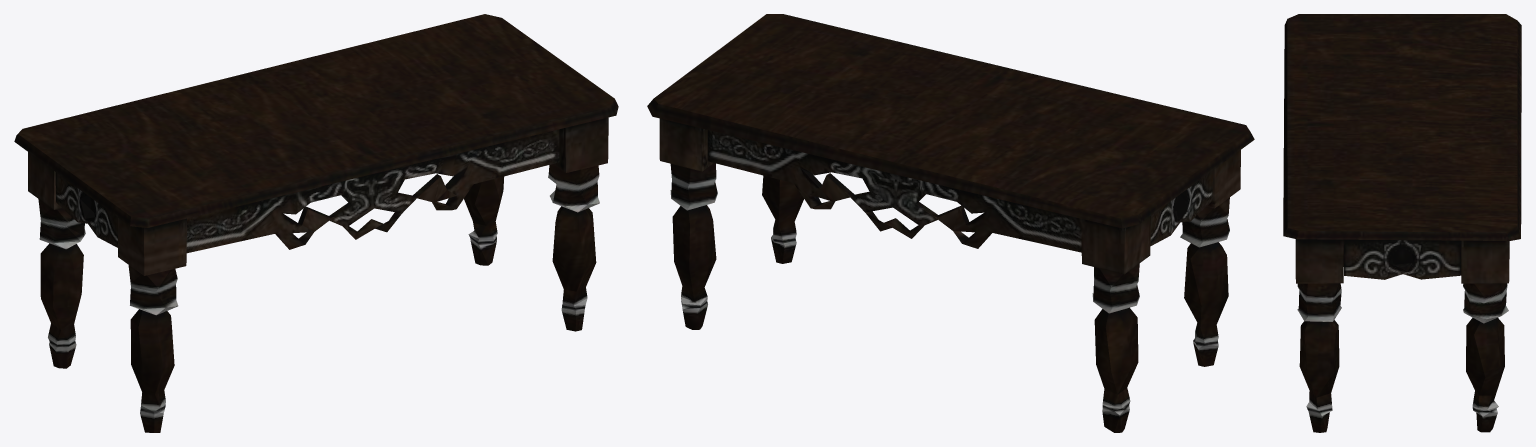
Rendered from table-coffee-carved.lod1.glb.
3 renders of one model, left to right at view 1: azimuth 30°, elevation 25°; view 2: azimuth 150°, elevation 25°; view 3: azimuth 270°, elevation 25°, orthographic. The views are drawn at different scales.
Visible parts, largest first — view 1: table-coffee-carved; view 2: table-coffee-carved; view 3: table-coffee-carved.
Part boxes in pixels (left/top/right/bottom): table-coffee-carved: left=14, top=14, right=618, bottom=432; table-coffee-carved: left=647, top=14, right=1254, bottom=432; table-coffee-carved: left=1283, top=14, right=1521, bottom=432.
Bounding box in the file's own units: 1 × 0.4508 × 0.4584.
Materials: 1 (1 with a texture image).
